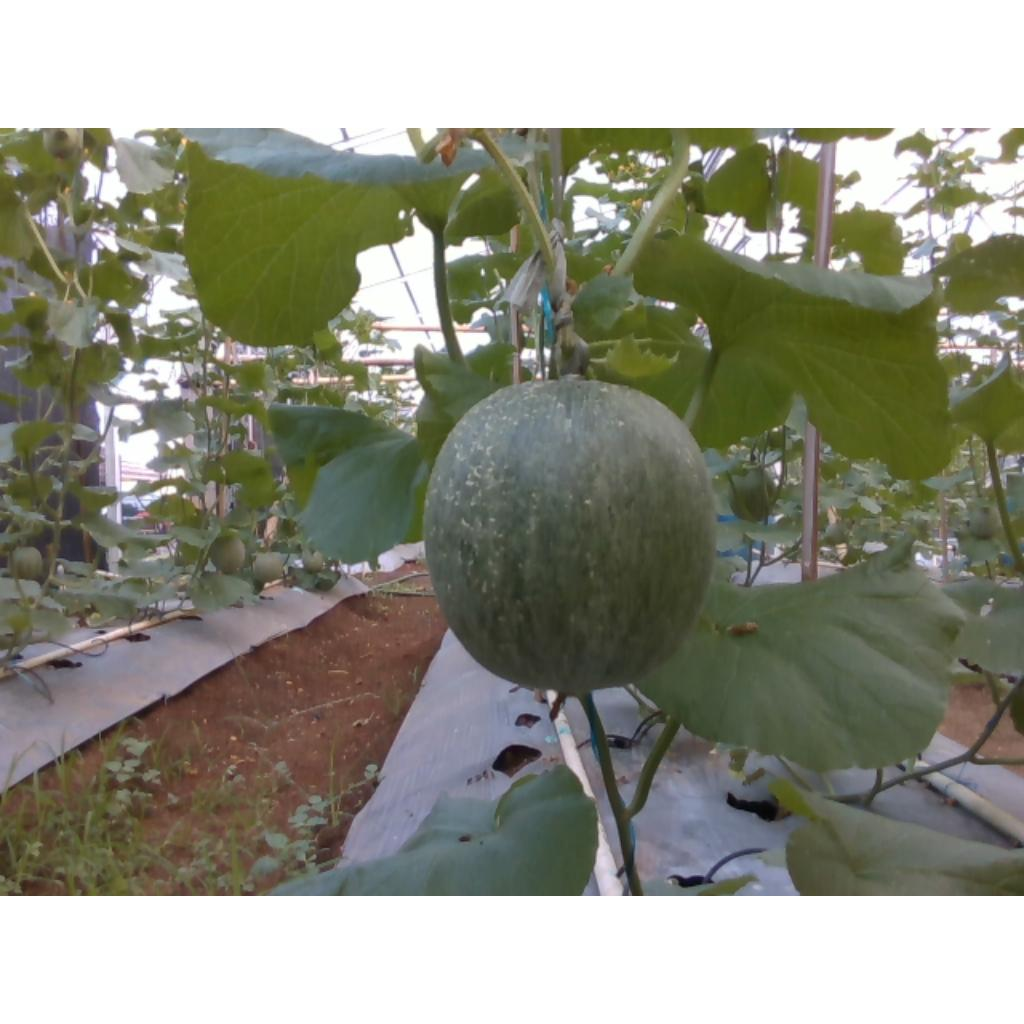melon: (424, 378, 717, 695)
